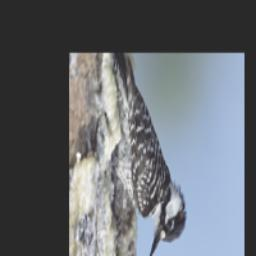Woodpecker: (91, 57, 188, 256)
